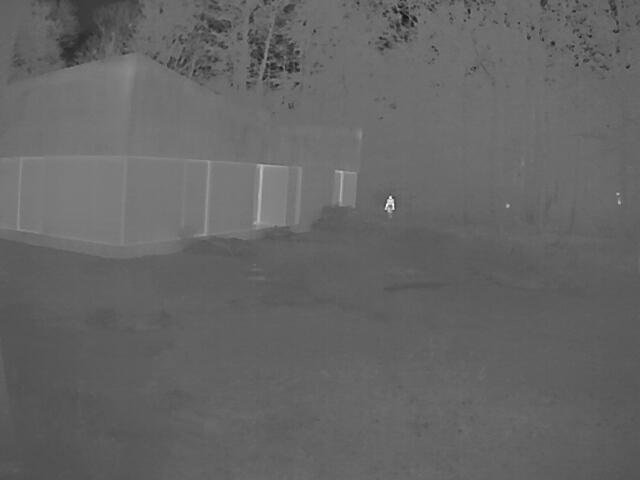person: (381, 193, 395, 221)
